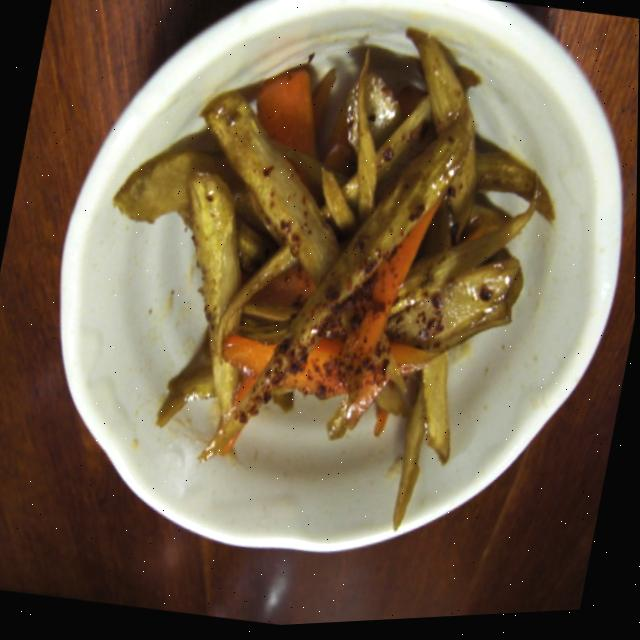蔬菜料理: (16, 0, 640, 588)
